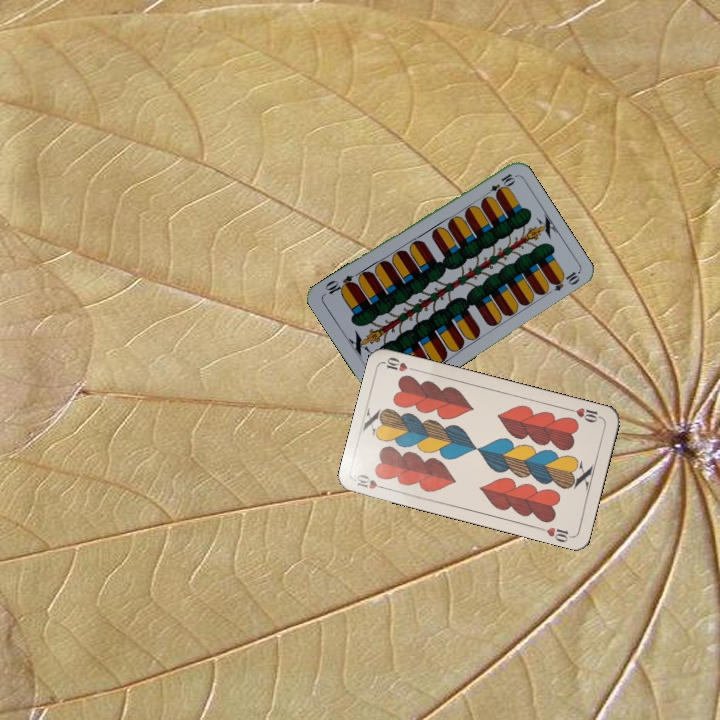E10: (480, 169, 517, 200)
H10: (564, 404, 604, 425), (353, 470, 391, 492)
